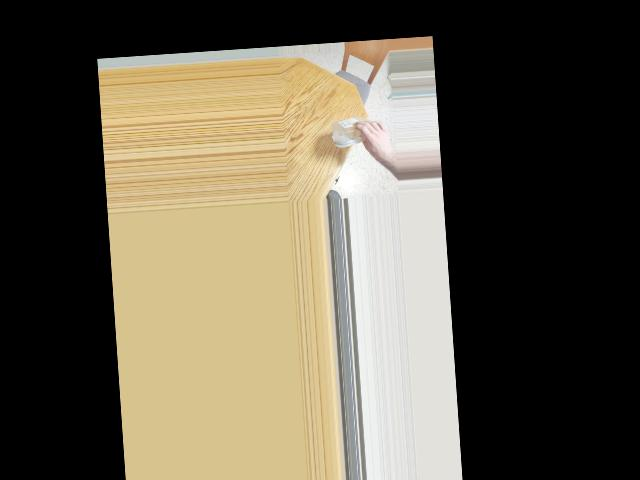cheese: (338, 114, 378, 150)
